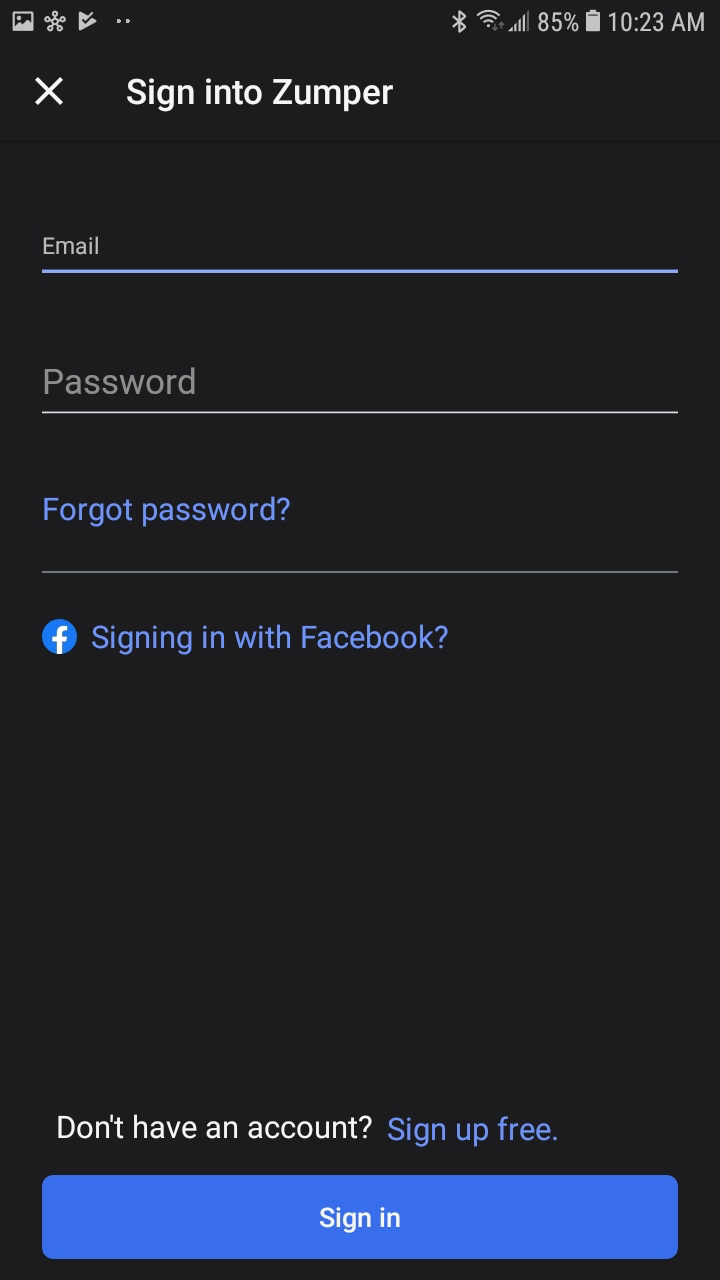EditText: (42, 367, 679, 415), (42, 237, 679, 275)
Icon: (43, 619, 79, 655), (36, 77, 65, 106)
Text: (58, 1113, 558, 1147), (92, 625, 448, 656), (127, 79, 393, 114), (44, 496, 291, 528), (45, 367, 196, 396), (43, 237, 99, 256)
TextButton: (43, 1175, 679, 1260)
UpperTaskBar: (1, 1, 720, 34)
